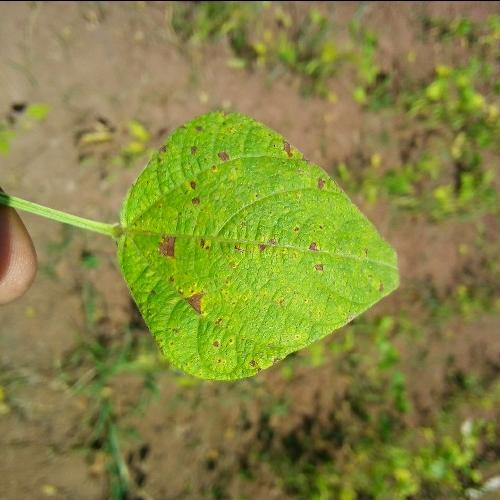hawar: (130, 129, 214, 350), (286, 216, 326, 256), (226, 231, 280, 254), (275, 139, 298, 161), (312, 170, 334, 192), (216, 146, 236, 168)
mozaik: (230, 257, 346, 352)
